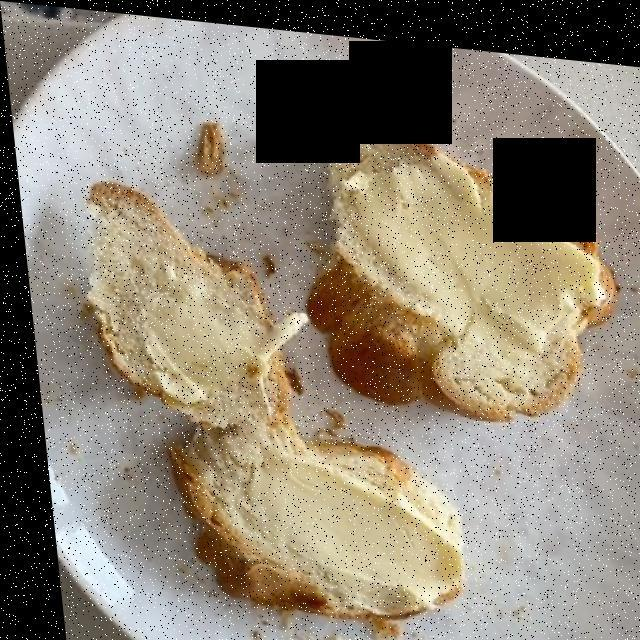bread: (84, 100, 609, 610)
butter: (124, 157, 599, 582)
